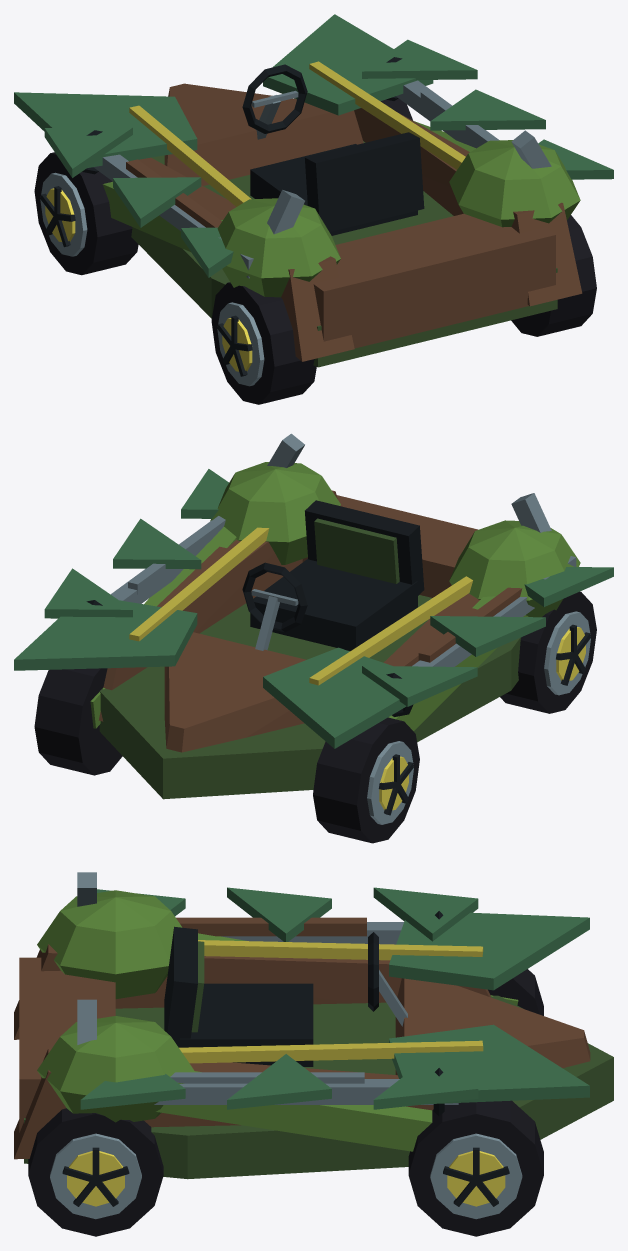
File: kart.glb
The picture shows the model from 3 angles, top to bottom: view 1: azimuth 30°, elevation 25°; view 2: azimuth 150°, elevation 25°; view 3: azimuth 270°, elevation 25°; orthographic projection. The views are drawn at different scales.
Visible parts, largest first — view 1: identity-nature-nature-root-cradle-and-leaf-bow, identity-nature-motif-leaves, identity-nature-driver-cockpit, wheel-rear-left, wheel-front-left, identity-nature-motif-pipes, wheel-rear-right, identity-nature-motif-tools; view 2: identity-nature-nature-root-cradle-and-leaf-bow, identity-nature-driver-cockpit, identity-nature-motif-leaves, wheel-front-left, wheel-rear-left, wheel-front-right, identity-nature-motif-pipes, identity-nature-motif-tools; view 3: identity-nature-nature-root-cradle-and-leaf-bow, identity-nature-motif-leaves, wheel-front-right, wheel-rear-right, identity-nature-driver-cockpit, identity-nature-motif-pipes, identity-nature-motif-tools, wheel-front-left.
Boxes of the visible parts, left/top/right/bottom form: identity-nature-nature-root-cradle-and-leaf-bow: left=14, top=14, right=582, bottom=367; identity-nature-motif-leaves: left=44, top=39, right=613, bottom=277; identity-nature-driver-cockpit: left=242, top=64, right=424, bottom=235; wheel-rear-left: left=211, top=282, right=316, bottom=404; wheel-front-left: left=34, top=152, right=138, bottom=275; identity-nature-motif-pipes: left=82, top=57, right=551, bottom=234; wheel-rear-right: left=511, top=215, right=596, bottom=336; identity-nature-motif-tools: left=126, top=90, right=498, bottom=278; identity-nature-nature-root-cradle-and-leaf-bow: left=14, top=462, right=580, bottom=799; identity-nature-driver-cockpit: left=242, top=500, right=424, bottom=651; identity-nature-motif-leaves: left=44, top=469, right=613, bottom=706; wheel-front-left: left=313, top=717, right=419, bottom=843; wheel-rear-left: left=500, top=591, right=596, bottom=713; wheel-front-right: left=34, top=668, right=122, bottom=775; identity-nature-motif-pipes: left=86, top=433, right=551, bottom=716; identity-nature-motif-tools: left=128, top=516, right=576, bottom=662; identity-nature-nature-root-cradle-and-leaf-bow: left=14, top=890, right=613, bottom=1179; identity-nature-motif-leaves: left=80, top=887, right=478, bottom=1109; wheel-front-right: left=408, top=1100, right=543, bottom=1236; wheel-rear-right: left=28, top=1108, right=163, bottom=1236; identity-nature-driver-cockpit: left=164, top=926, right=407, bottom=1066; identity-nature-motif-pipes: left=77, top=872, right=458, bottom=1116; identity-nature-motif-tools: left=170, top=917, right=366, bottom=1083; wheel-front-left: left=488, top=969, right=543, bottom=1015.
Bounding box in the file's own units: 2.3 × 1.09 × 2.75.
